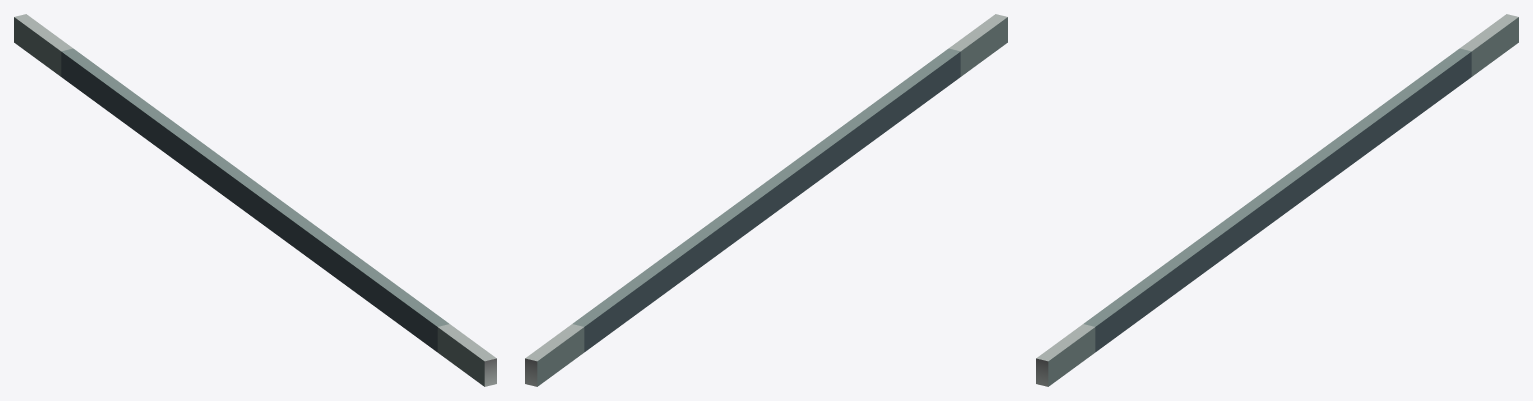
Rendered from Grindrail01.gltf.
3 renders of one model, left to right at view 1: azimuth 30°, elevation 25°; view 2: azimuth 150°, elevation 25°; view 3: azimuth 330°, elevation 25°, orthographic.
Parts seen in each view (by area): view 1: Grindrail01Mesh; view 2: Grindrail01Mesh; view 3: Grindrail01Mesh.
Boxes of the visible parts, x1=… form: Grindrail01Mesh: x1=14, y1=14, x2=496, y2=386; Grindrail01Mesh: x1=525, y1=14, x2=1007, y2=386; Grindrail01Mesh: x1=1036, y1=14, x2=1518, y2=386.
Bounding box in the file's own units: 0.15 × 0.3 × 10.
